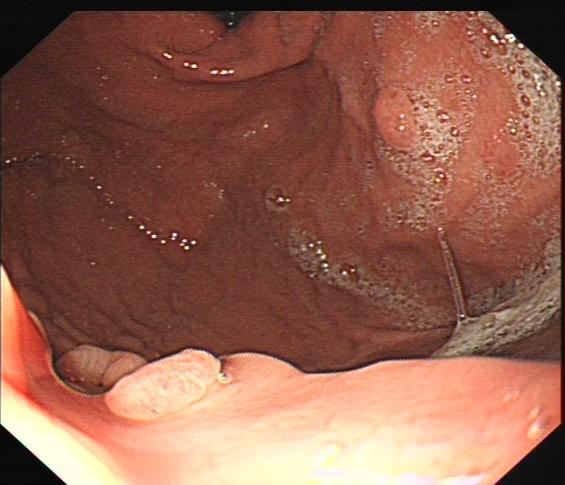Polyp: (374, 85, 430, 158)
